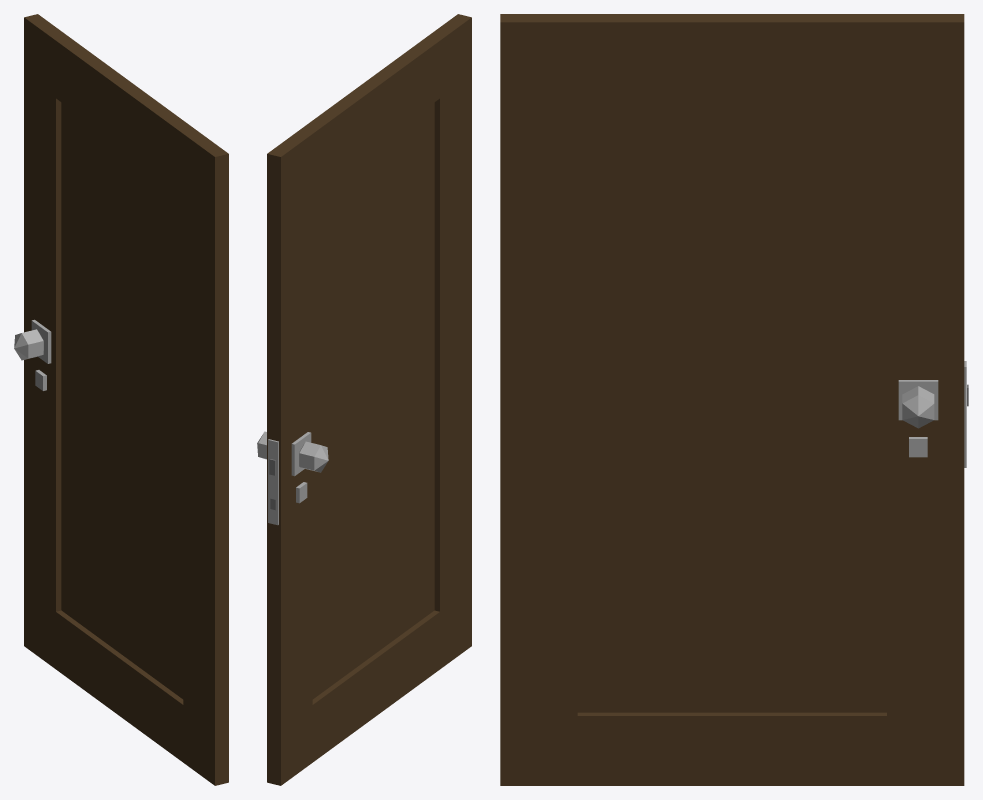
File: SM_doorHouse_01.glb
The picture shows the model from 3 angles, left to right: view 1: azimuth 30°, elevation 25°; view 2: azimuth 150°, elevation 25°; view 3: azimuth 270°, elevation 25°; orthographic projection. The views are drawn at different scales.
Visible parts, largest first — view 1: SM_doorHouse_01; view 2: SM_doorHouse_01; view 3: SM_doorHouse_01.
Boxes of the visible parts, x1,y1,x2,y2 form: SM_doorHouse_01: (14,14,228,785); SM_doorHouse_01: (257,14,471,785); SM_doorHouse_01: (500,14,968,785).
Bounding box in the file's own units: 0.2595 × 2.18 × 1.21.
Materials: 2 (1 with a texture image).
